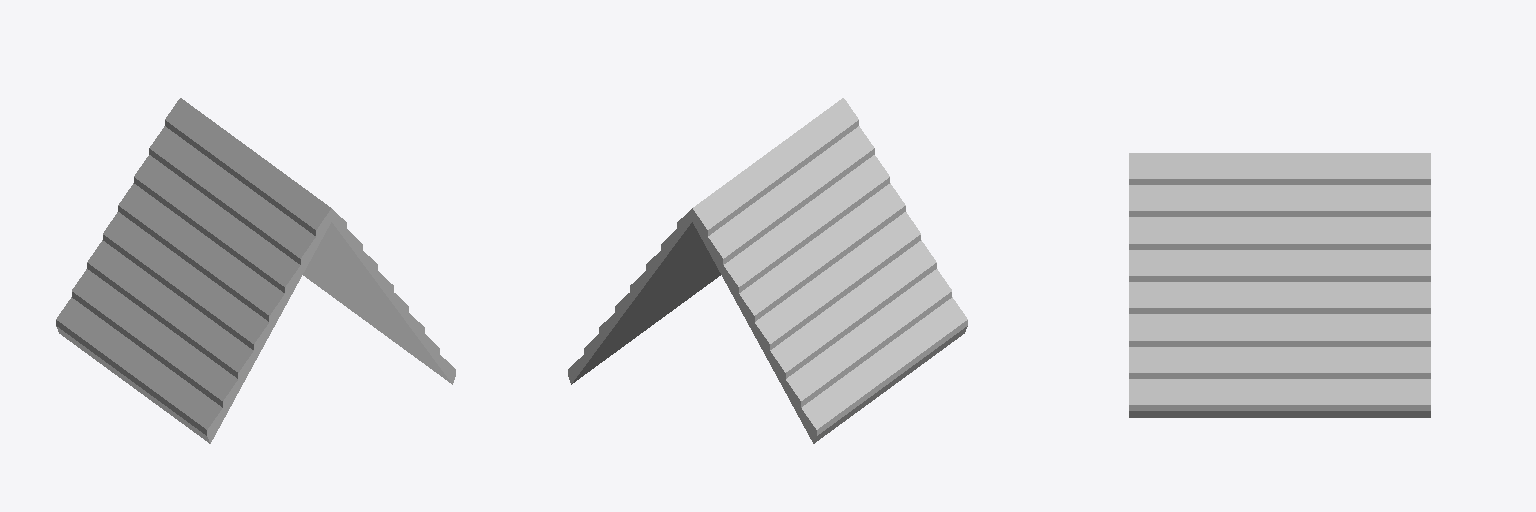
The model's file is cabinRoofCenter.obj.
The picture shows the model from 3 angles: view 1: azimuth 30°, elevation 25°; view 2: azimuth 150°, elevation 25°; view 3: azimuth 270°, elevation 25°; orthographic projection.
Parts seen in each view (by area): view 1: cabinRoofCenter; view 2: cabinRoofCenter; view 3: cabinRoofCenter.
Boxes of the visible parts, x1=… form: cabinRoofCenter: x1=56, y1=98, x2=455, y2=443; cabinRoofCenter: x1=568, y1=98, x2=967, y2=443; cabinRoofCenter: x1=1129, y1=153, x2=1430, y2=417.
Size of the model in its own units: 1.21 by 0.9559 by 1.27.